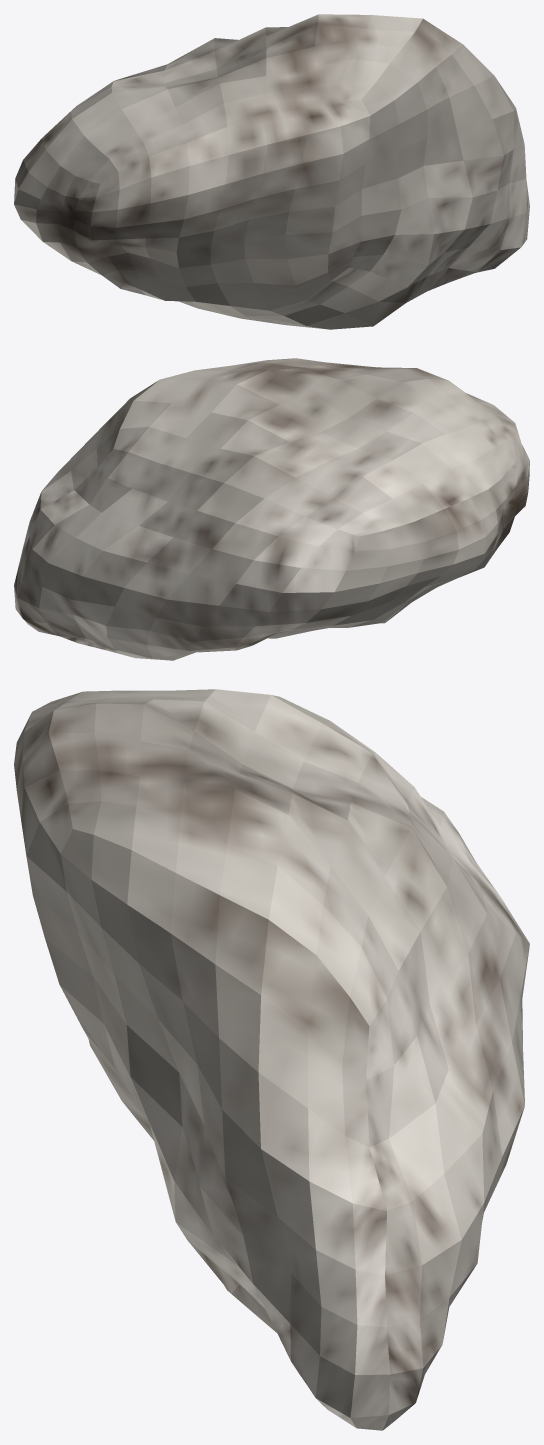
File: Rock_alien.fbx
The picture shows the model from 3 angles, top to bottom: view 1: azimuth 30°, elevation 25°; view 2: azimuth 150°, elevation 25°; view 3: azimuth 270°, elevation 25°; orthographic projection. The views are drawn at different scales.
Visible parts, largest first — view 1: Rock_alien; view 2: Rock_alien; view 3: Rock_alien.
Part boxes in pixels (box(x1,y1,x2,y2)): Rock_alien: box(14, 14, 529, 329); Rock_alien: box(14, 358, 529, 660); Rock_alien: box(14, 689, 529, 1430).
Size of what is drawn, in the model's own units: 825 by 487 by 470.
